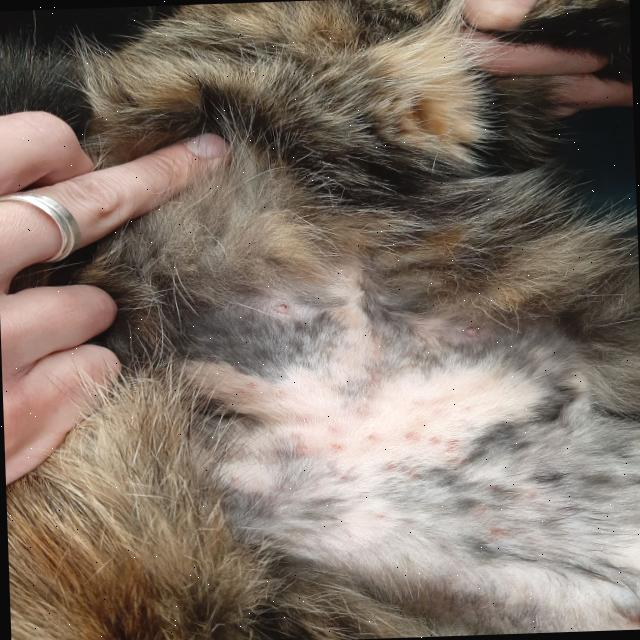cat-hairloss: (202, 336, 537, 489)
